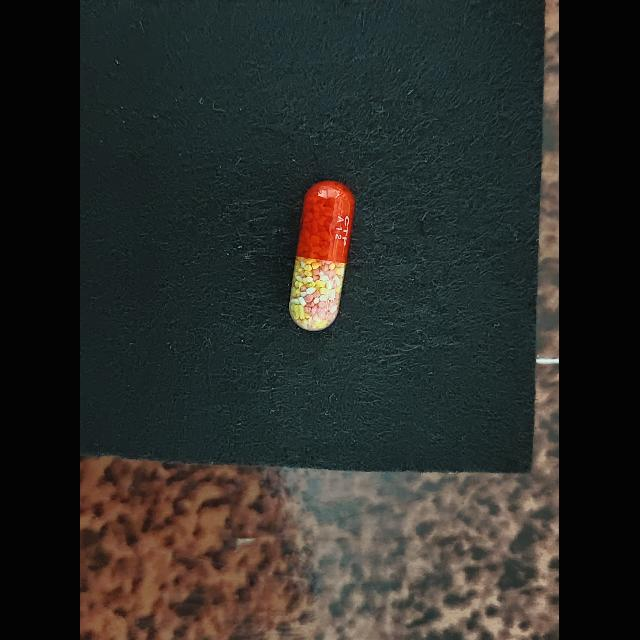Intact Capsule: (290, 181, 356, 331)
